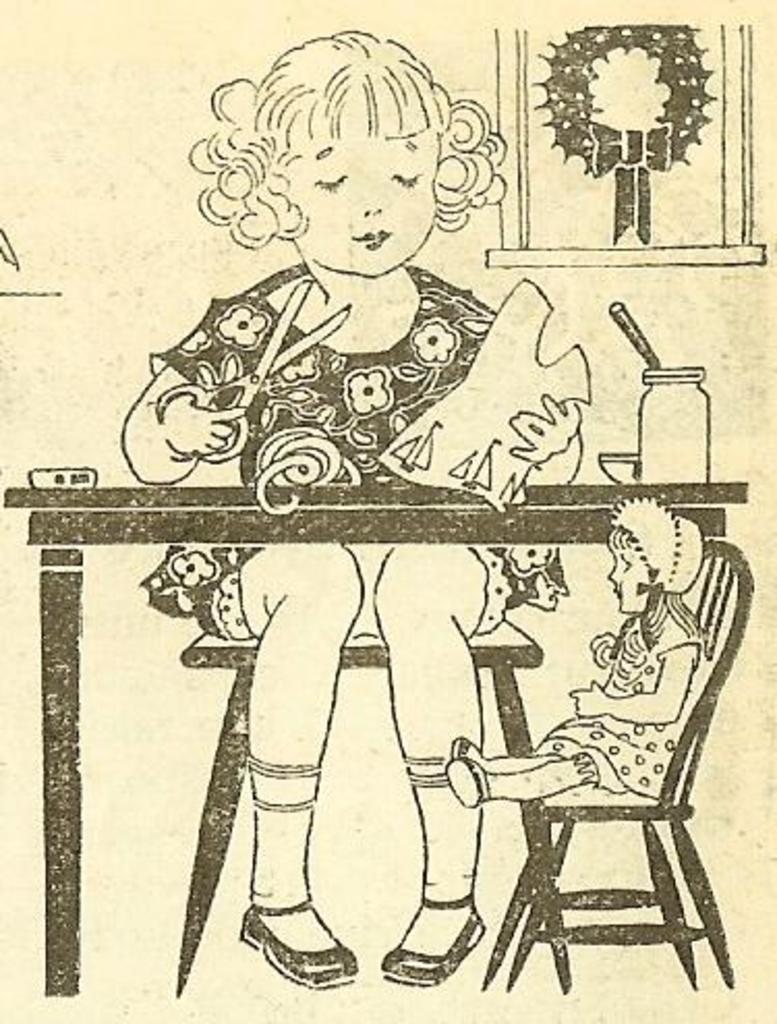Chair: (172, 614, 578, 997), (464, 609, 765, 1005)
